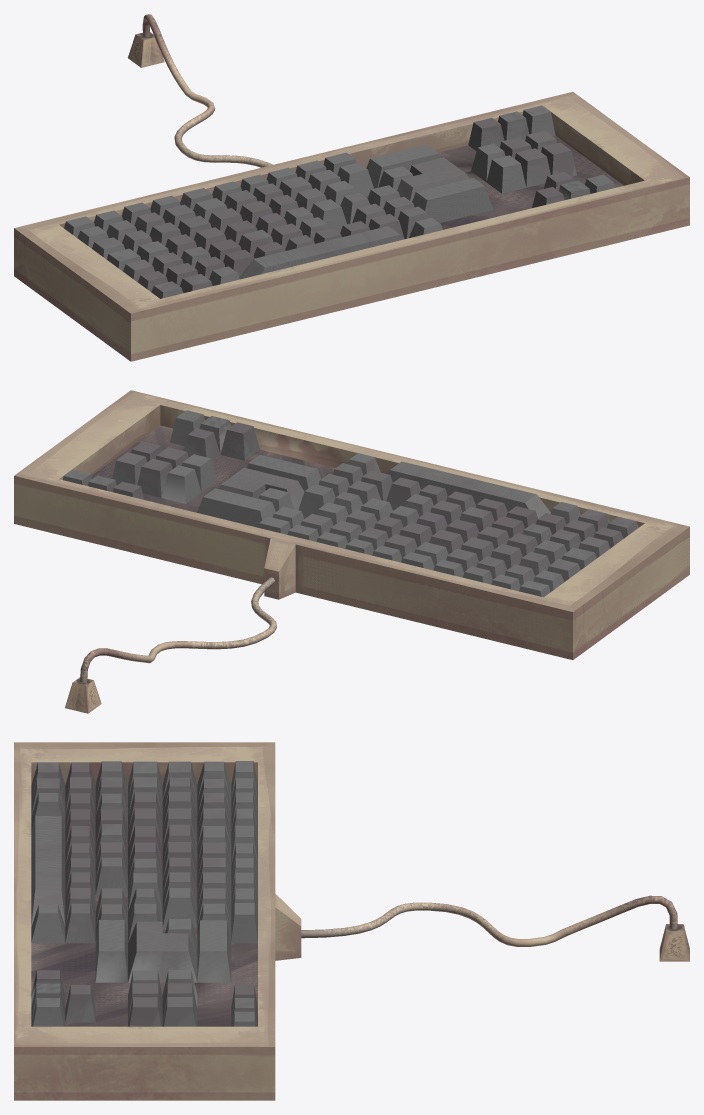
The model's file is Keyboard.obj.
3 renders of one model, top to bottom at view 1: azimuth 30°, elevation 25°; view 2: azimuth 150°, elevation 25°; view 3: azimuth 270°, elevation 25°, orthographic. The views are drawn at different scales.
Parts seen in each view (by area): view 1: Keyboard; view 2: Keyboard; view 3: Keyboard.
Boxes of the visible parts, x1,y1,x2,y2 form: Keyboard: [14, 14, 689, 361]; Keyboard: [14, 390, 689, 713]; Keyboard: [14, 742, 689, 1100].
Size of the model in its own units: 1.26 by 0.1294 by 1.18.
